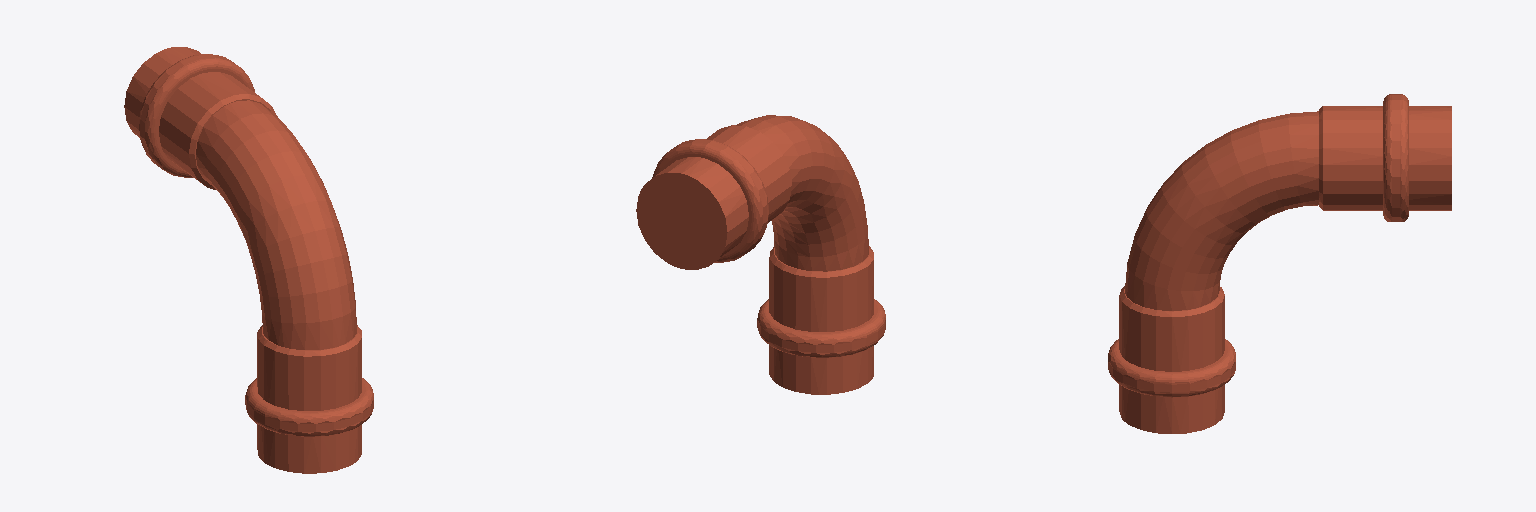
File: apipe2.obj
3 views of the same model, side by side, from view 1: azimuth 30°, elevation 25°; view 2: azimuth 150°, elevation 25°; view 3: azimuth 270°, elevation 25° (orthographic).
Parts seen in each view (by area): view 1: 7; view 2: 7; view 3: 7.
Part boxes in pixels (x1,y1,x2,y2): 7: (124,47,373,473); 7: (636,115,885,394); 7: (1108,94,1451,433).
Bounding box in the file's own units: 30 × 80 × 79.93.